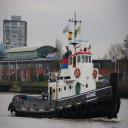tugboat: (8, 12, 123, 123)
